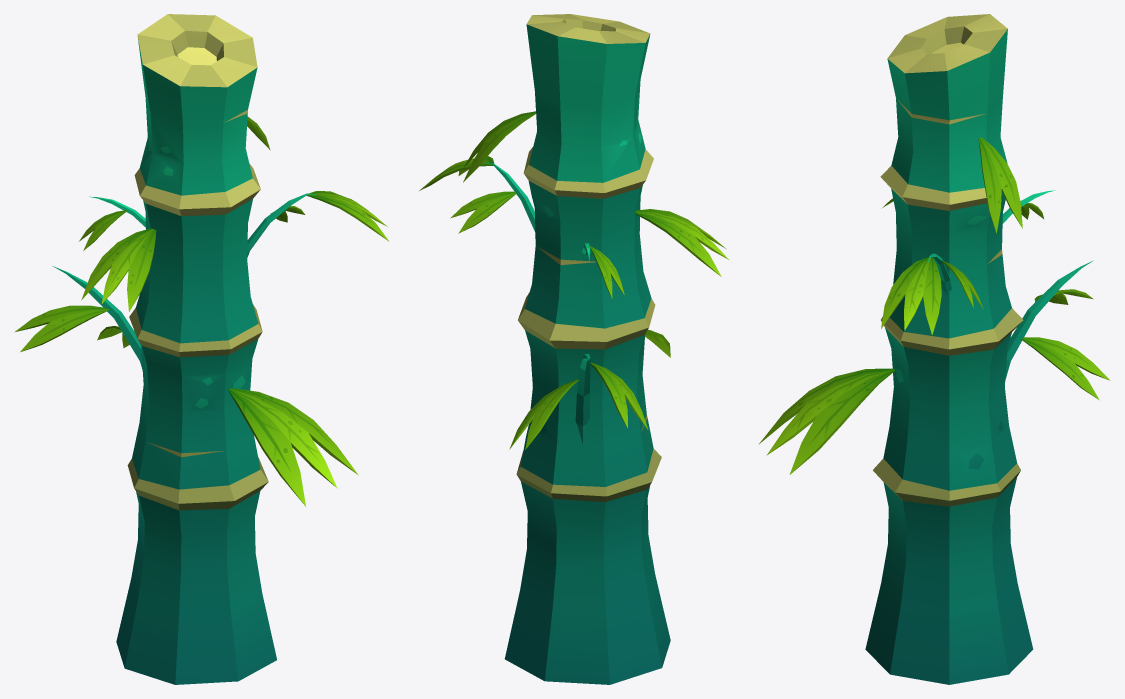
Rendered from bamboo_2.001.glb.
3 renders of one model, left to right at view 1: azimuth 30°, elevation 25°; view 2: azimuth 150°, elevation 25°; view 3: azimuth 270°, elevation 25°, orthographic. The views are drawn at different scales.
Parts seen in each view (by area): view 1: bamboo_2.001; view 2: bamboo_2.001; view 3: bamboo_2.001.
Boxes of the visible parts, x1=… form: bamboo_2.001: x1=14, y1=14, x2=389, y2=684; bamboo_2.001: x1=419, y1=14, x2=728, y2=684; bamboo_2.001: x1=758, y1=14, x2=1110, y2=684.
Bounding box in the file's own units: 1.72 × 3.43 × 1.77.
Materials: 1 (1 with a texture image).
